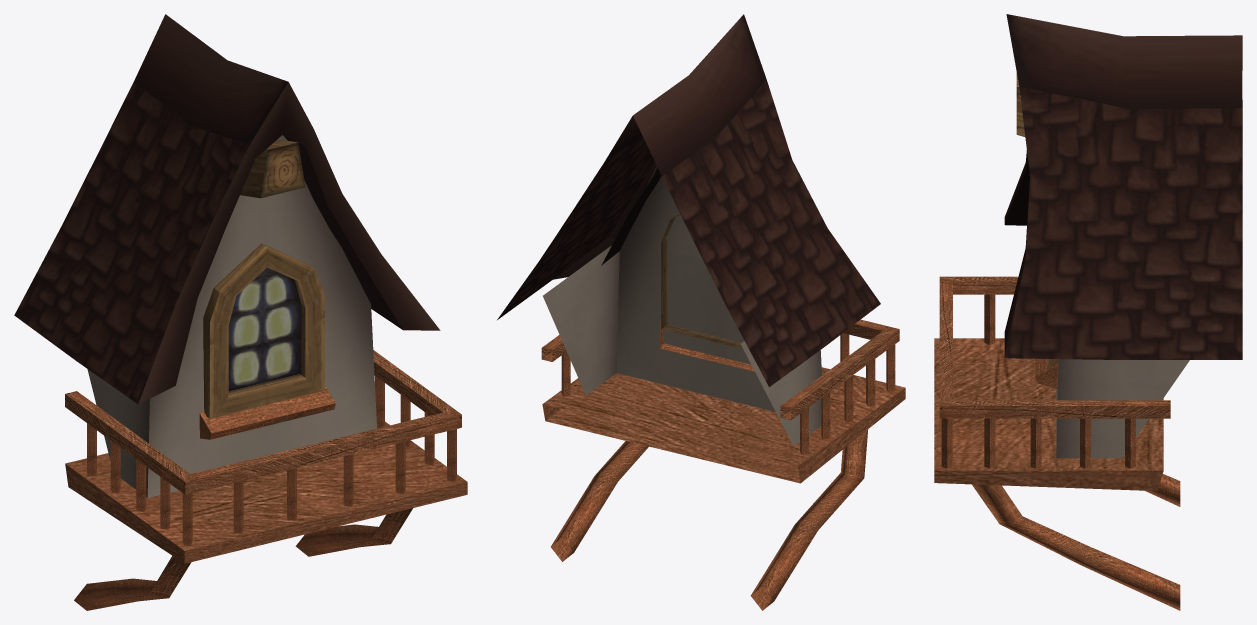
The model's file is fanasty_mod_window_balcony.fbx.
3 renders of one model, left to right at view 1: azimuth 30°, elevation 25°; view 2: azimuth 150°, elevation 25°; view 3: azimuth 270°, elevation 25°, orthographic. The views are drawn at different scales.
Visible parts, largest first — view 1: window_balcony; view 2: window_balcony; view 3: window_balcony.
Part boxes in pixels (<box>): window_balcony: <box>14,14,467,610</box>; window_balcony: <box>497,14,905,610</box>; window_balcony: <box>934,14,1242,610</box>.
Size of the model in its own units: 3.85 by 6.91 by 3.54.
